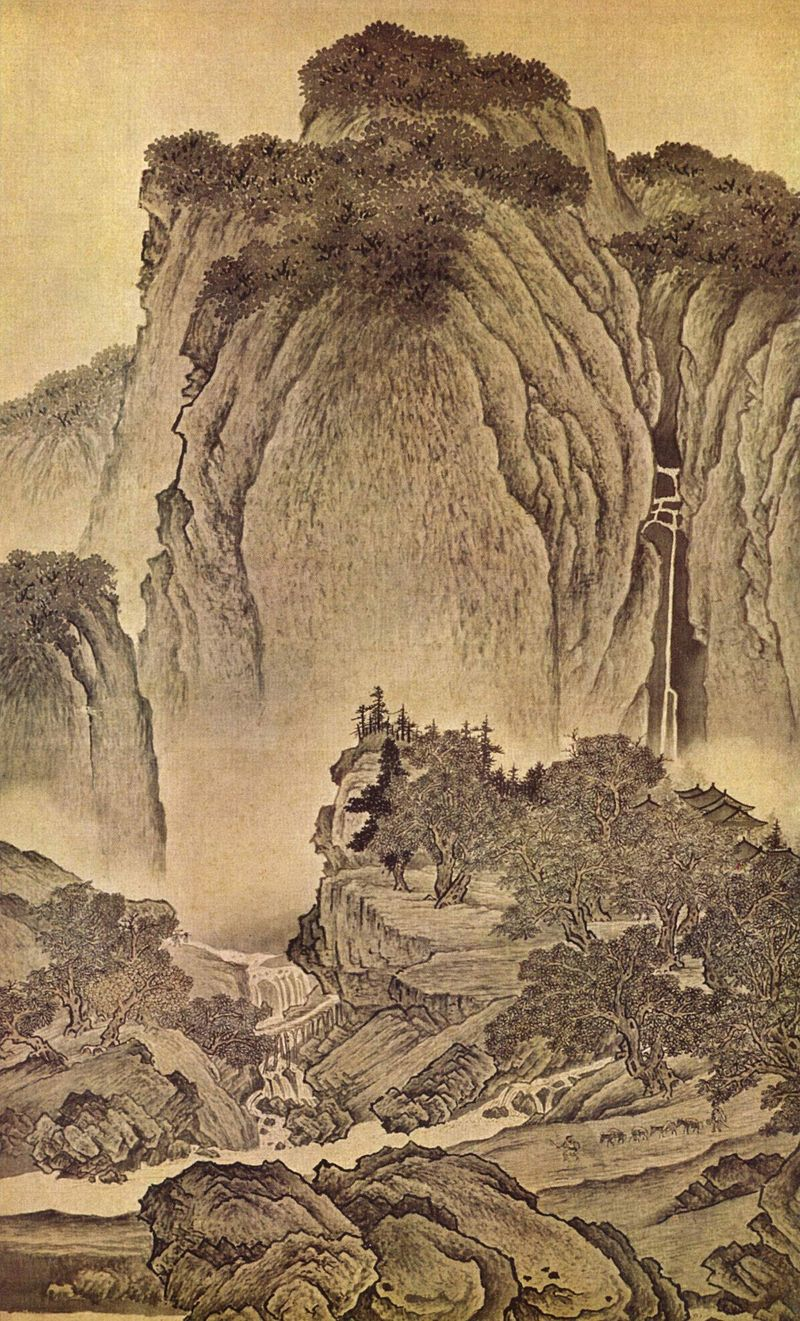creek: (218, 946, 355, 1141)
hill: (157, 1156, 676, 1320)
house: (687, 780, 764, 833)
mountain: (193, 317, 646, 748), (683, 299, 793, 760), (4, 606, 189, 872)
pine: (336, 696, 497, 748)
river: (7, 1120, 504, 1216)
tree: (370, 752, 691, 931), (519, 963, 798, 1122), (44, 899, 198, 1047)
wagon: (559, 1114, 759, 1157)
